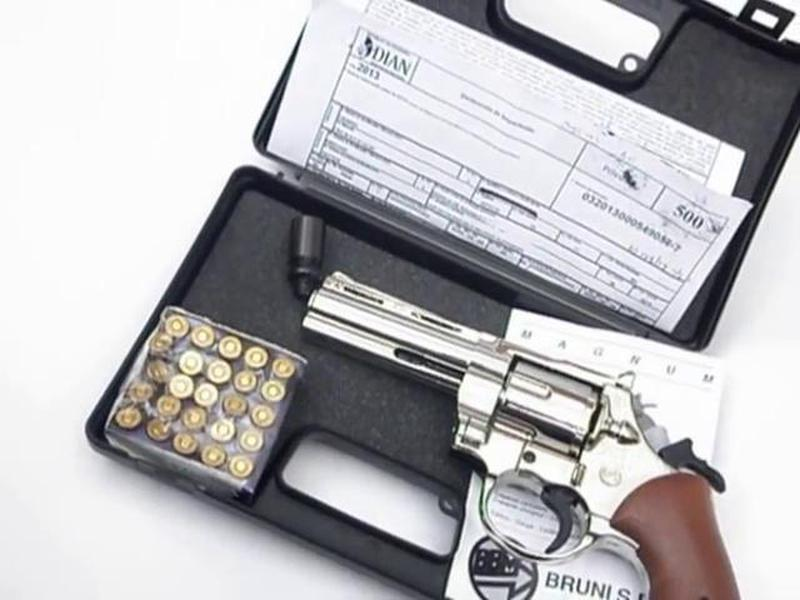Revolver: (226, 252, 750, 600)
